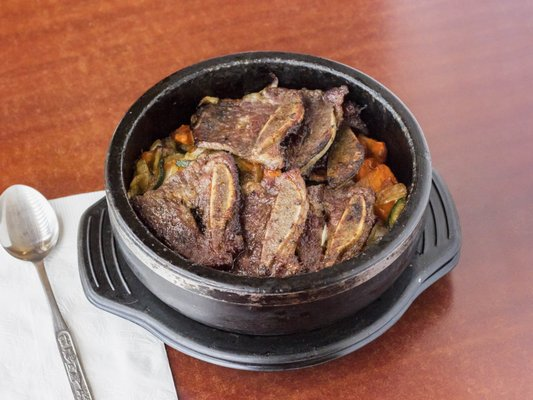salad: (0, 185, 95, 400)
sushi: (111, 50, 434, 340)
